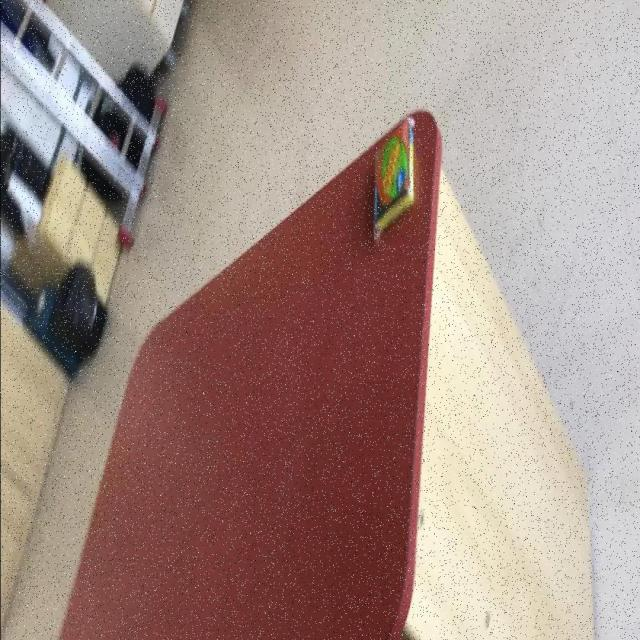Sponge: (374, 118, 415, 237)
